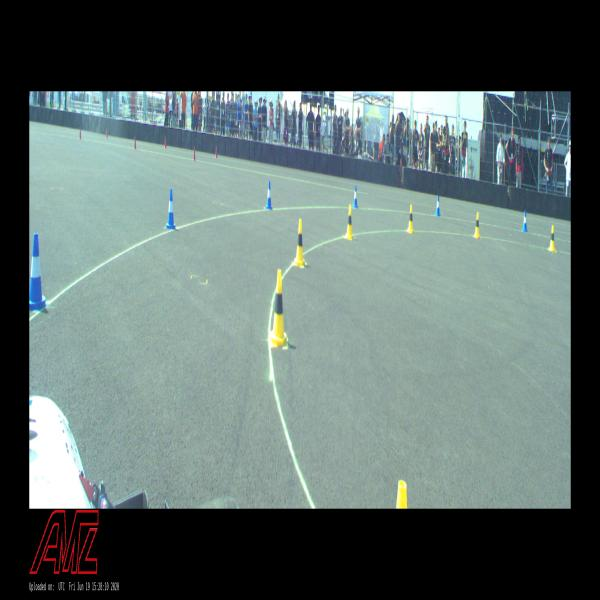blue_cone: (29, 232, 46, 310), (166, 189, 176, 230), (265, 181, 273, 210), (435, 195, 441, 216), (522, 211, 528, 232), (353, 185, 358, 208)
yellow_cone: (270, 269, 287, 346), (294, 218, 305, 266), (345, 204, 354, 240), (406, 204, 414, 234), (548, 225, 556, 251), (474, 212, 481, 238)
